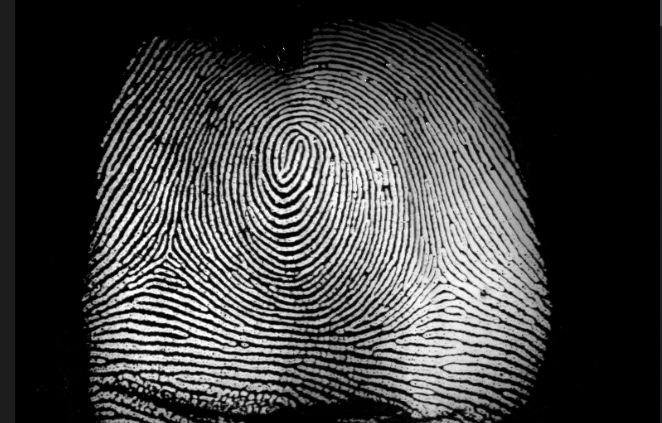nucelo: (277, 129, 313, 169)
verticilo: (149, 244, 185, 271), (423, 264, 453, 294)
